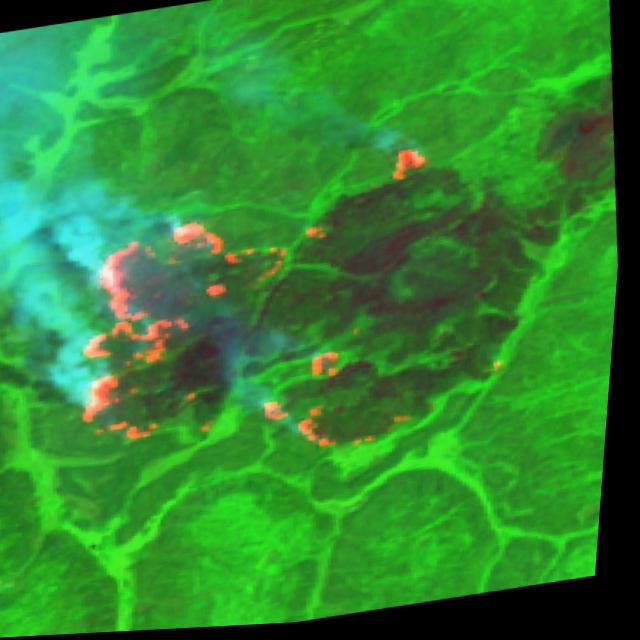fire: (48, 138, 465, 493)
